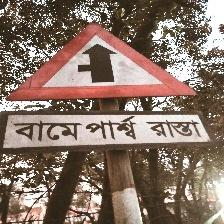Side-road-left: (2, 20, 211, 153)
